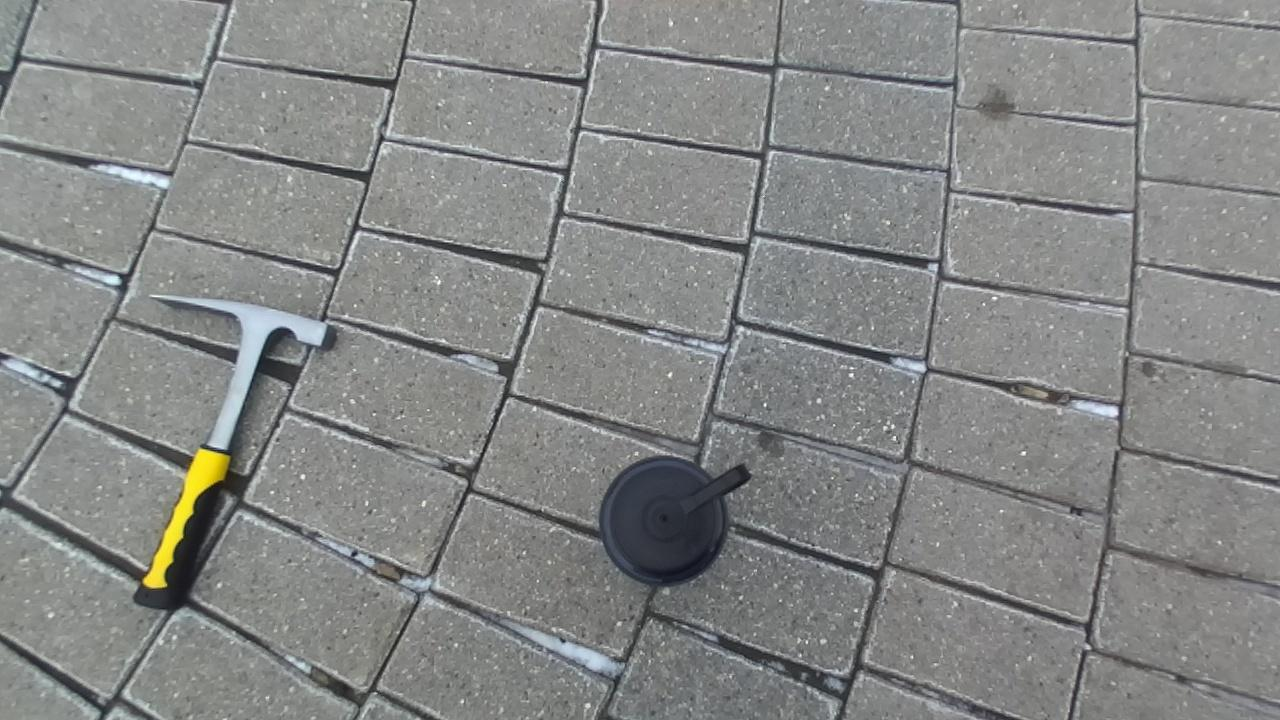bottle: (598, 456, 750, 585), (232, 334, 240, 336)
pick: (134, 296, 335, 609)
